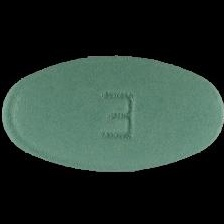65862-202: (0, 0, 224, 224)
